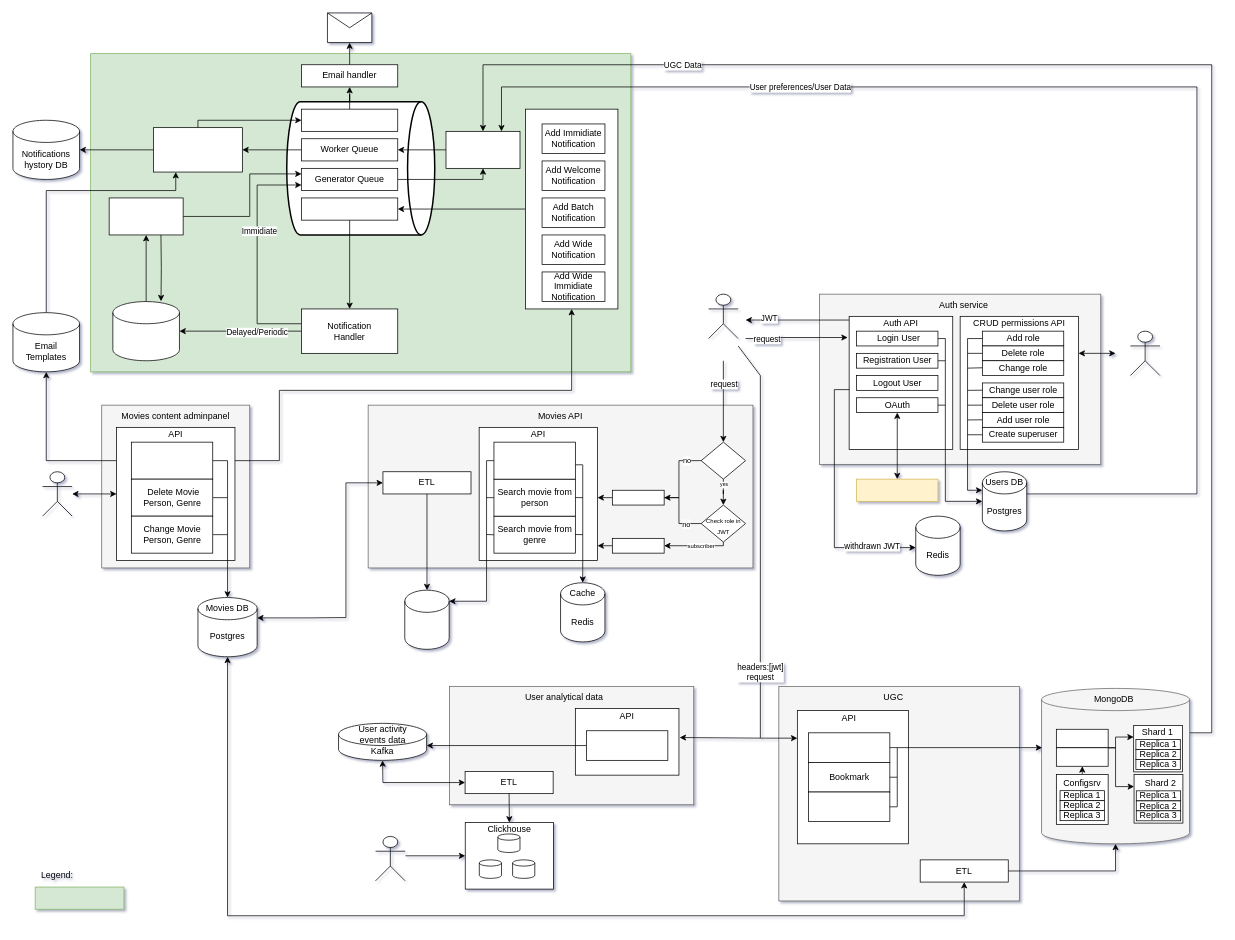
Image size: 1235x940. Some labels were removed from this diagram. Each missing label, with the centre of its shape:
Add Movie, Person, Genre: point (172, 460)
Analyst: point (390, 858)
Auth superuser: point (1145, 353)
Current service: point (79, 897)
Elastic: point (426, 619)
Email Queue: point (349, 119)
External OAuth provider: point (897, 489)
General content permission: point (638, 497)
Generator: point (482, 149)
Like/Dislike: point (849, 747)
Manager: point (57, 493)
Notification DB: point (145, 331)
Notifications: point (349, 208)
registered user: point (723, 460)
Review: point (849, 806)
Router 1: point (1082, 738)
Router 2: point (1082, 756)
Save watch movie progress: point (627, 745)
Scheduler: point (145, 216)
Search movie: point (534, 460)
Subcsriber content permission: point (638, 545)
User: point (723, 316)
Worker: point (197, 149)
